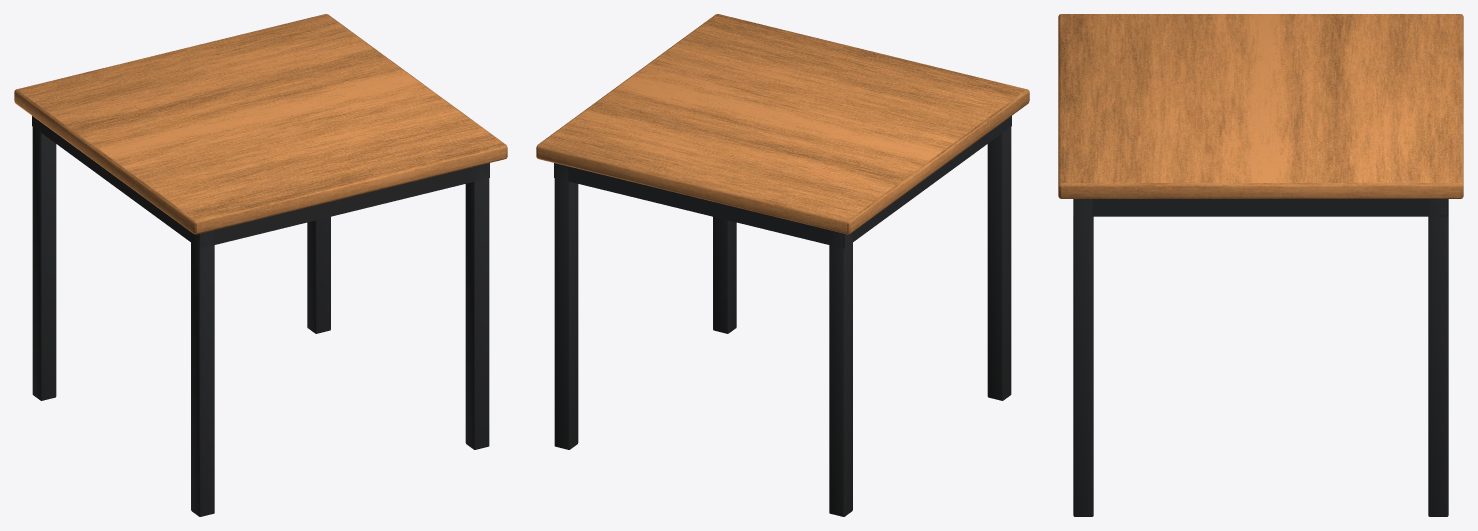
Rendered from lounge.square-casual-table.glb.
3 renders of one model, left to right at view 1: azimuth 30°, elevation 25°; view 2: azimuth 150°, elevation 25°; view 3: azimuth 270°, elevation 25°, orthographic. The views are drawn at different scales.
Visible parts, largest first — view 1: lounge.square-casual-table.001; view 2: lounge.square-casual-table.001; view 3: lounge.square-casual-table.001.
Boxes of the visible parts, bbox=[...] form: lounge.square-casual-table.001: bbox=[14, 14, 507, 516]; lounge.square-casual-table.001: bbox=[536, 14, 1029, 516]; lounge.square-casual-table.001: bbox=[1058, 14, 1463, 516].
Bounding box in the file's own units: 0.8 × 0.74 × 0.8.
Materials: 2 (1 with a texture image).
